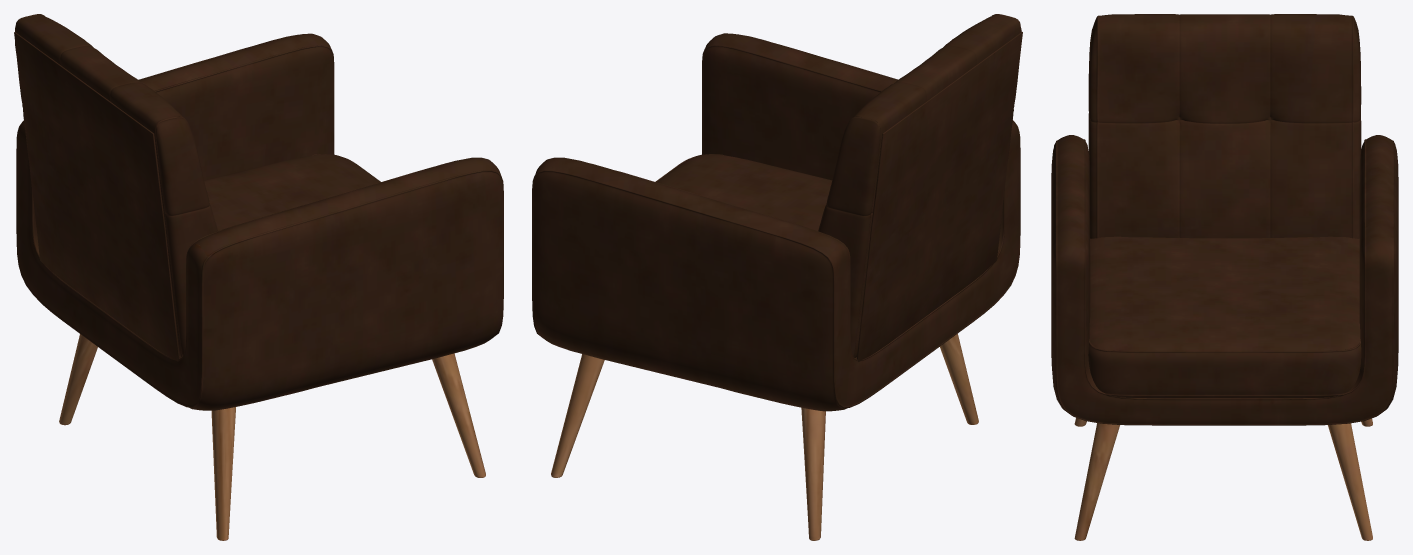
File: armchair-transformed.glb
3 views of the same model, side by side, from view 1: azimuth 30°, elevation 25°; view 2: azimuth 150°, elevation 25°; view 3: azimuth 270°, elevation 25° (orthographic). The views are drawn at different scales.
Visible parts, largest first — view 1: Plane.001_Material_0; view 2: Plane.001_Material_0; view 3: Plane.001_Material_0.
Boxes of the visible parts, x1=… form: Plane.001_Material_0: x1=14, y1=14, x2=503, y2=540; Plane.001_Material_0: x1=532, y1=14, x2=1022, y2=540; Plane.001_Material_0: x1=1051, y1=14, x2=1398, y2=540.
Bounding box in the file's own units: 0.6987 × 0.856 × 0.6962.
Materials: 1 (1 with a texture image).
